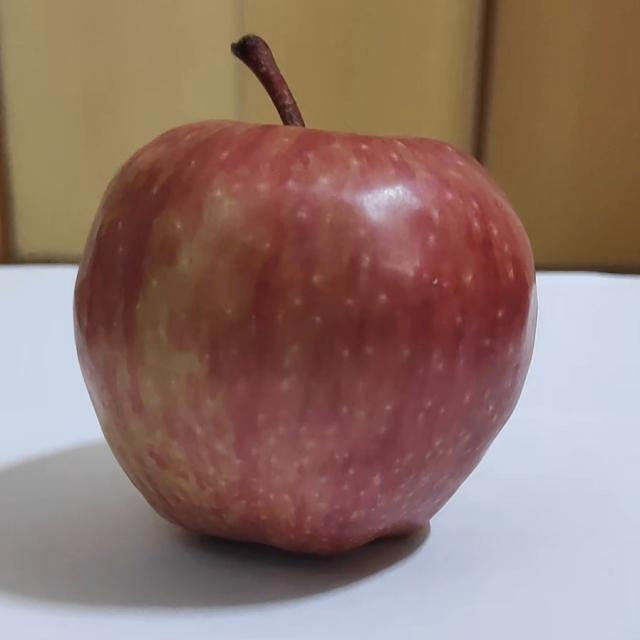apple: (71, 33, 541, 567)
